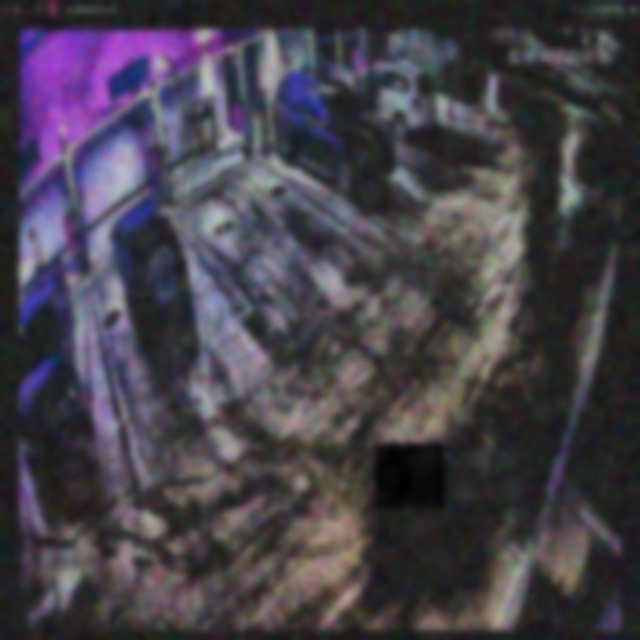Car: (271, 69, 397, 197), (110, 195, 191, 336)
